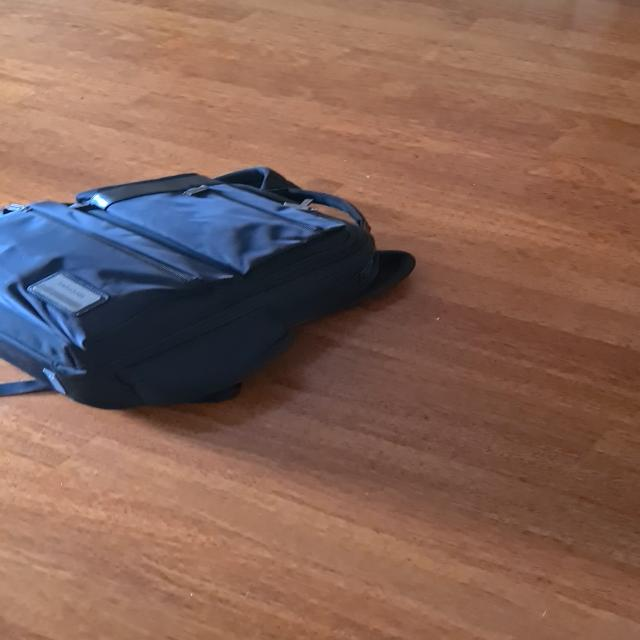backpack: (0, 161, 429, 414)
